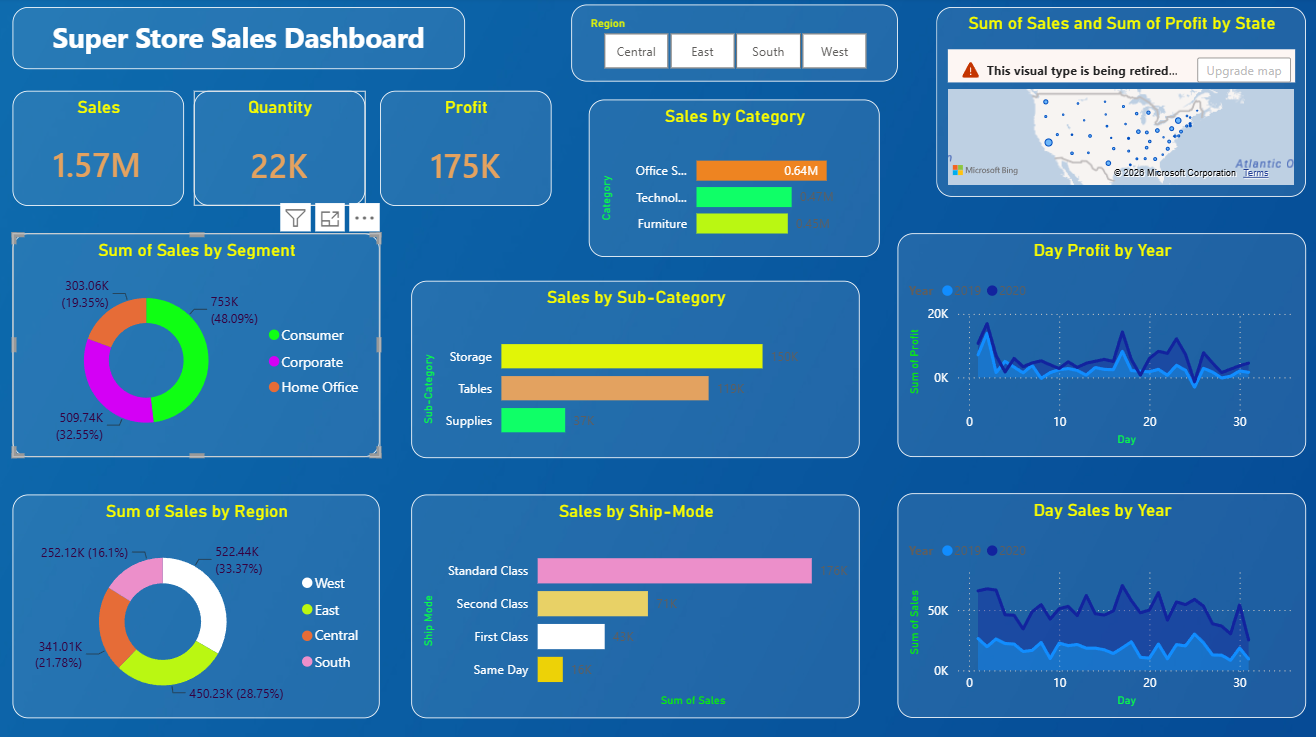

This screenshot's page, from the dashboard's own definition file:
{"tool":"powerbi","page":{"name":"Page 1","canvas":[1280,720],"ordinal":0},"visuals":[{"type":"clusteredBarChart","title":" Sales by Category","fields":{"Category":["Sheet1.Category"],"Y":["Sum(Sheet1.Sales)"]},"box":[573.1,98.9,281.1,152],"z":0},{"type":"clusteredBarChart","title":" Sales by Sub-Category","fields":{"Category":["Sheet1.Sub-Category"],"Y":["Sum(Sheet1.Sales)"]},"box":[401.7,273.9,433.1,171.3],"z":1000},{"type":"clusteredBarChart","title":" Sales by Ship-Mode","fields":{"Category":["Sheet1.Ship Mode"],"Y":["Sum(Sheet1.Sales)"]},"box":[401.7,480.2,433.1,216],"z":2000},{"type":"stackedAreaChart","title":"Day Sales by Year","fields":{"Category":["Sheet1.Order Date.Variation.Date Hierarchy.Day"],"Series":["Sheet1.Order Date.Variation.Date Hierarchy.Year"],"Y":["Sum(Sheet1.Sales)"]},"box":[871.1,479,394.5,217.2],"z":3000},{"type":"stackedAreaChart","title":"Day Profit by Year","fields":{"Category":["Sheet1.Order Date.Variation.Date Hierarchy.Day"],"Series":["Sheet1.Order Date.Variation.Date Hierarchy.Year"],"Y":["Sum(Sheet1.Profit)"]},"box":[871.1,228,394.5,216],"z":4000},{"type":"map","fields":{"Category":["Sheet1.State"],"Size":["Sum(Sheet1.Sales)"]},"box":[908.4,9.7,357.1,183.4],"z":5000},{"type":"donutChart","fields":{"Category":["Sheet1.Segment"],"Y":["Sum(Sheet1.Sales)"]},"box":[16.9,228,354.7,216],"z":6000},{"type":"donutChart","fields":{"Category":["Sheet1.Region"],"Y":["Sum(Sheet1.Sales)"]},"box":[16.9,480.2,354.7,216],"z":7000},{"type":"slicer","fields":{"Values":["Sheet1.Region"]},"box":[556.2,7.2,314.9,74.8],"z":9000},{"type":"textbox","box":[16.9,9.7,436.7,60.3],"z":10000},{"type":"cardVisual","title":"Sales","fields":{"Data":["Sum(Sheet1.Sales)"]},"box":[16.9,90.5,165.3,111],"z":11000},{"type":"cardVisual","title":"Quantity","fields":{"Data":["Sum(Sheet1.Quantity)"]},"box":[191.8,90.5,165.3,111],"z":12000},{"type":"cardVisual","title":"Profit","fields":{"Data":["Sum(Sheet1.Profit)"]},"box":[371.6,90.5,165.3,111],"z":12001}]}

Visuals, with their boxes in screenshot pixels (x1, y1, x2, y2), scaled from the page's 1280x720 canvas onto the 1316x737 screenshot:
" Sales by Category" clusteredBarChart: [x1=589, y1=101, x2=878, y2=257]
" Sales by Sub-Category" clusteredBarChart: [x1=413, y1=280, x2=858, y2=456]
" Sales by Ship-Mode" clusteredBarChart: [x1=413, y1=492, x2=858, y2=713]
"Day Sales by Year" stackedAreaChart: [x1=896, y1=490, x2=1301, y2=713]
"Day Profit by Year" stackedAreaChart: [x1=896, y1=233, x2=1301, y2=454]
map - Sheet1.State x Sum(Sheet1.Sales): [x1=934, y1=10, x2=1301, y2=198]
donutChart - Sheet1.Segment x Sum(Sheet1.Sales): [x1=17, y1=233, x2=382, y2=454]
donutChart - Sheet1.Region x Sum(Sheet1.Sales): [x1=17, y1=492, x2=382, y2=713]
slicer - Sheet1.Region: [x1=572, y1=7, x2=896, y2=84]
textbox: [x1=17, y1=10, x2=466, y2=72]
"Sales" cardVisual: [x1=17, y1=93, x2=187, y2=206]
"Quantity" cardVisual: [x1=197, y1=93, x2=367, y2=206]
"Profit" cardVisual: [x1=382, y1=93, x2=552, y2=206]
